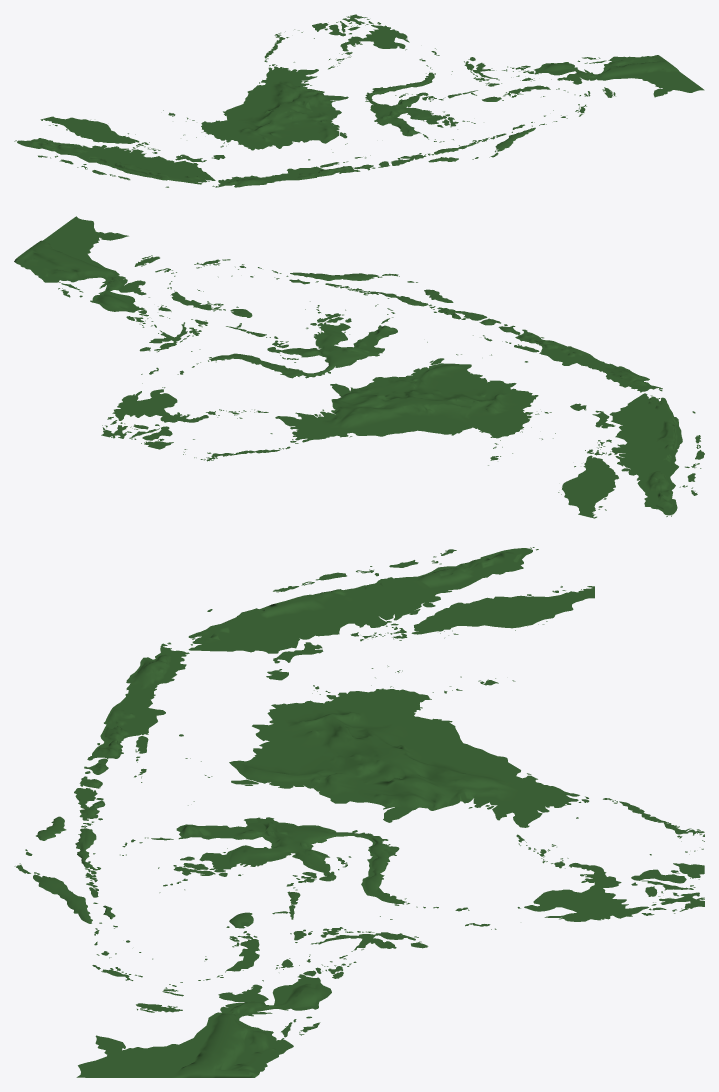
Rendered from Peta_Indonesia.fbx.
3 views of the same model, one above another, from view 1: azimuth 30°, elevation 25°; view 2: azimuth 150°, elevation 25°; view 3: azimuth 270°, elevation 25° (orthographic). The views are drawn at different scales.
Parts seen in each view (by area): view 1: Indonesian_Joined; view 2: Indonesian_Joined; view 3: Indonesian_Joined.
Boxes of the visible parts, x1,y1,x2,y2 form: Indonesian_Joined: [14, 14, 704, 187]; Indonesian_Joined: [14, 216, 704, 518]; Indonesian_Joined: [14, 547, 704, 1077].
Size of the model in its own units: 98.23 by 0.6019 by 54.05.
